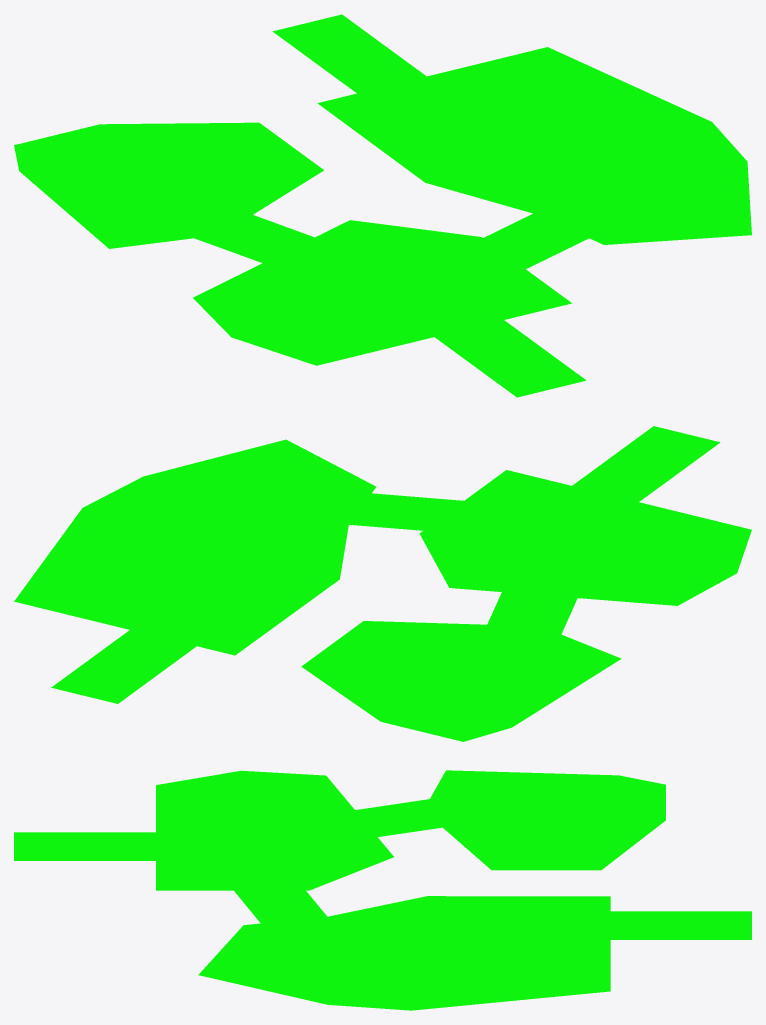
File: s05b_ic1-floor.glb
3 views of the same model, one above another, from view 1: azimuth 30°, elevation 25°; view 2: azimuth 150°, elevation 25°; view 3: azimuth 270°, elevation 25° (orthographic). The views are drawn at different scales.
Parts seen in each view (by area): view 1: collision_floor-colonly; view 2: collision_floor-colonly; view 3: collision_floor-colonly.
Part boxes in pixels (<box>): collision_floor-colonly: <box>14,14,751,397</box>; collision_floor-colonly: <box>14,426,751,741</box>; collision_floor-colonly: <box>14,770,751,1010</box>.
Bounding box in the file's own units: 50.09 × 0.1016 × 65.
